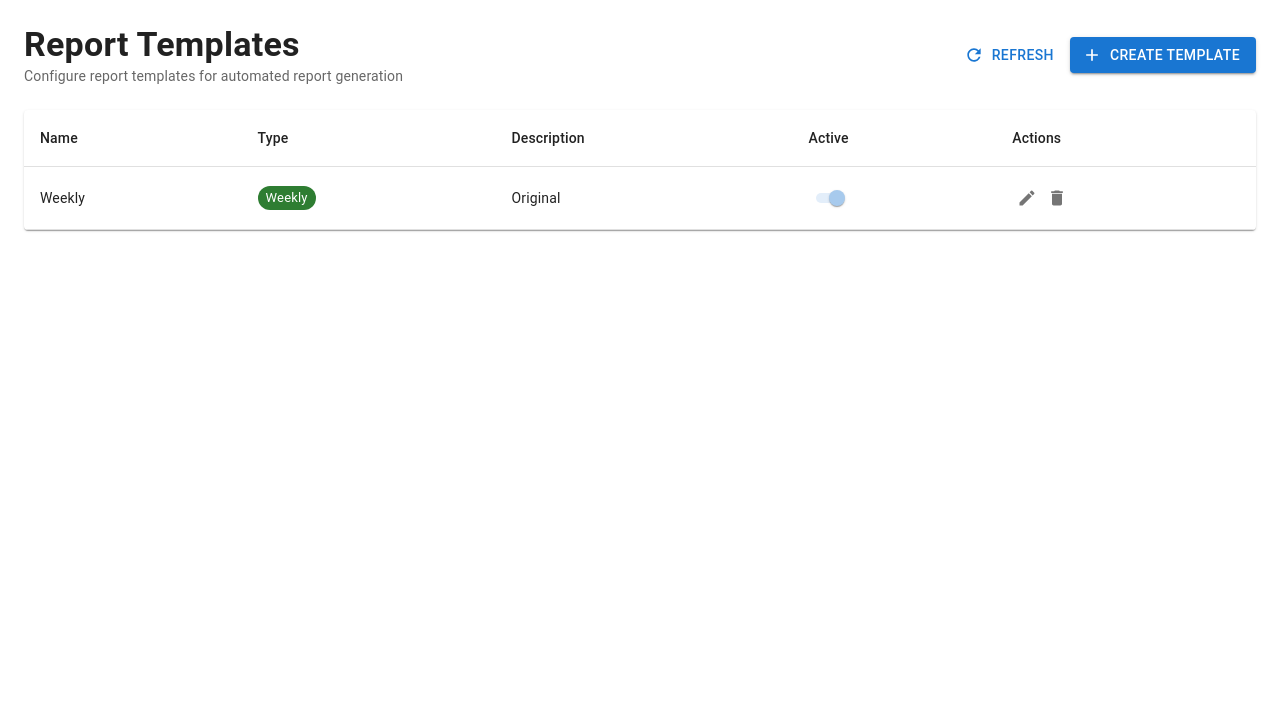
Test: preserves repeated machine sections and legacy configuration when editing a template
The image size is (1280, 720).
Click the button named "Edit template".
click(1027, 198)  # box [1012, 183, 1042, 213]
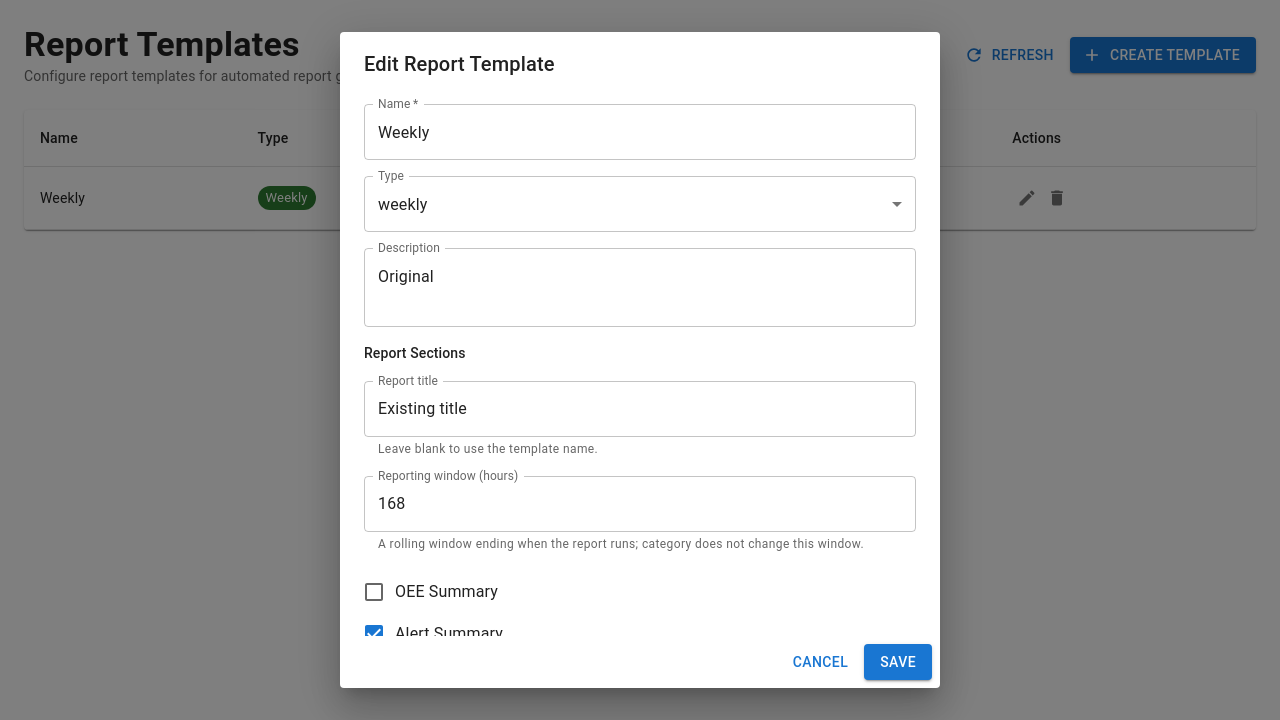
Replace the text in the text box labelled "Description" with "Edited description" at {"x": 640, "y": 288}, box [378, 264, 902, 310]
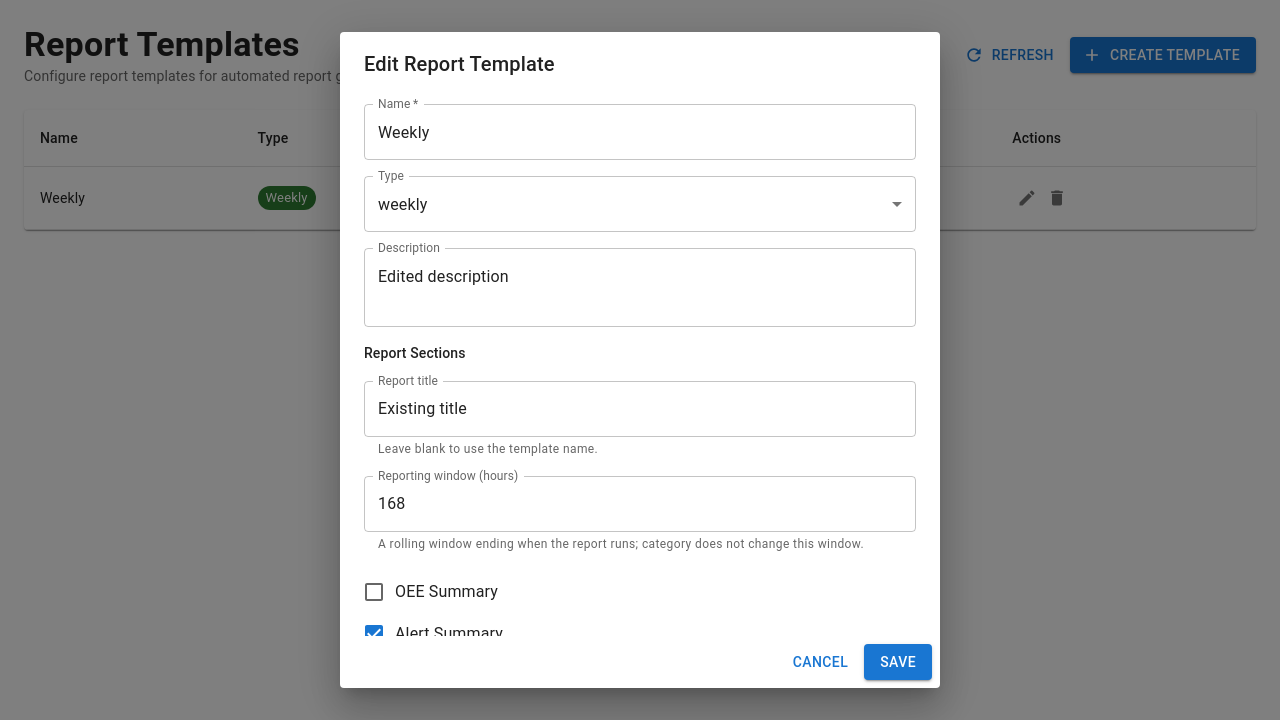
Click the button "Save".
click(898, 662)  # box [864, 644, 932, 680]
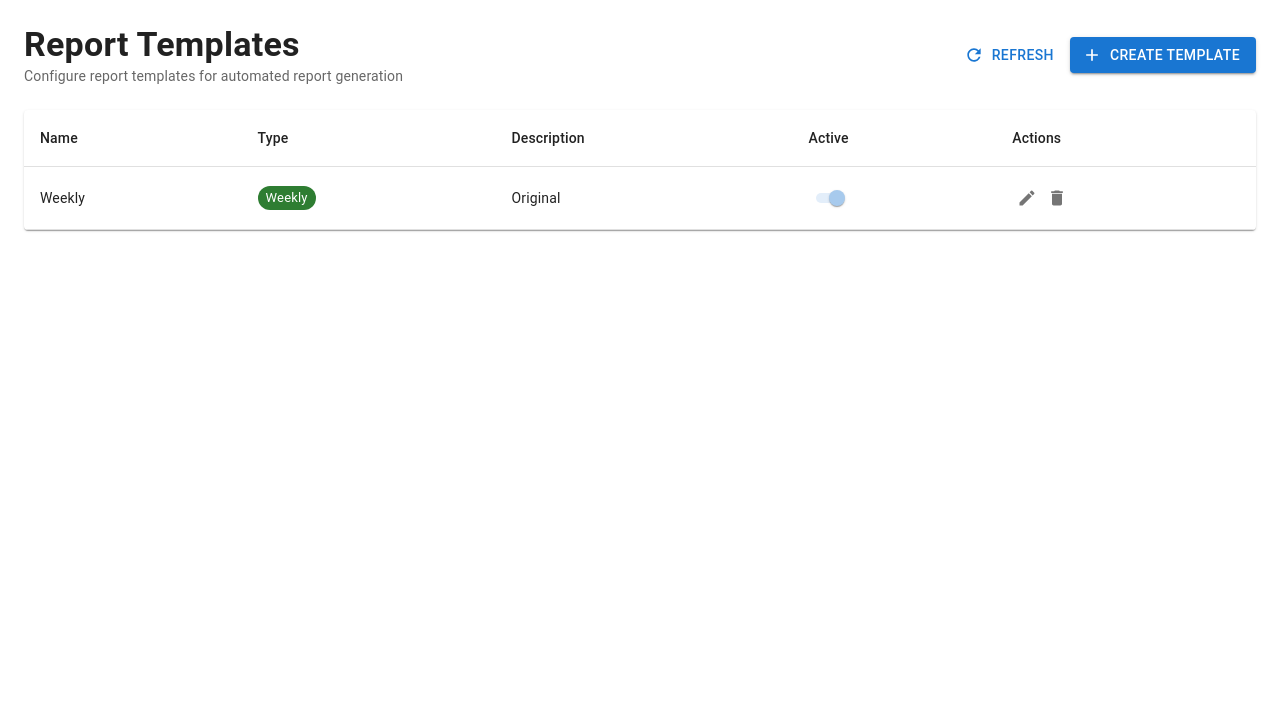
Expected: the dialog is gone
